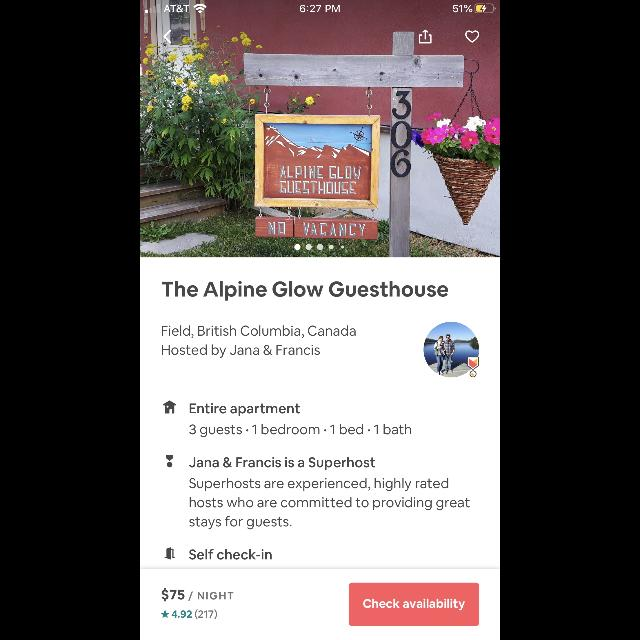icon: (418, 30, 432, 44), (465, 31, 479, 44), (164, 401, 176, 414), (164, 30, 172, 44), (161, 610, 169, 618)
image: (140, 1, 500, 258), (424, 322, 478, 378), (164, 548, 176, 560), (166, 455, 174, 467)
pageindicator: (294, 244, 344, 250)
text: (162, 281, 448, 301), (190, 496, 470, 509), (189, 424, 411, 438), (190, 478, 448, 490), (189, 456, 375, 469), (162, 326, 356, 338), (162, 344, 320, 358), (190, 516, 292, 530), (190, 404, 300, 416), (189, 548, 271, 560), (162, 588, 234, 600), (195, 610, 217, 618), (172, 610, 192, 618)
textbutton: (349, 582, 479, 626)
uppertaskbar: (140, 0, 500, 14)
